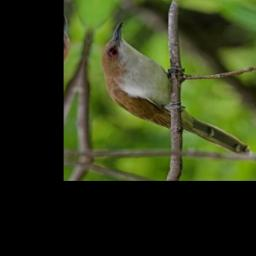Cuckoo: (84, 19, 256, 156)
